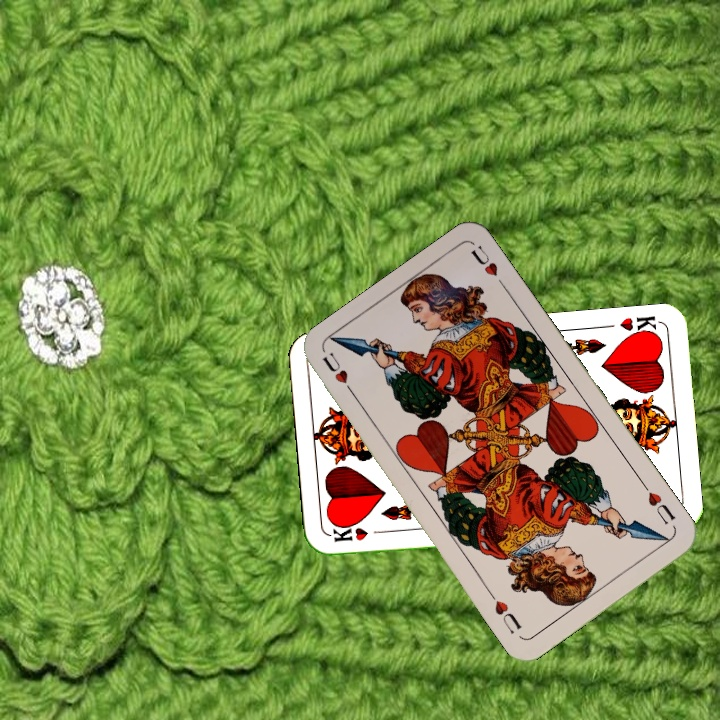HK: (328, 523, 388, 544), (616, 312, 661, 340)
HU: (318, 348, 359, 401), (638, 479, 678, 528)
